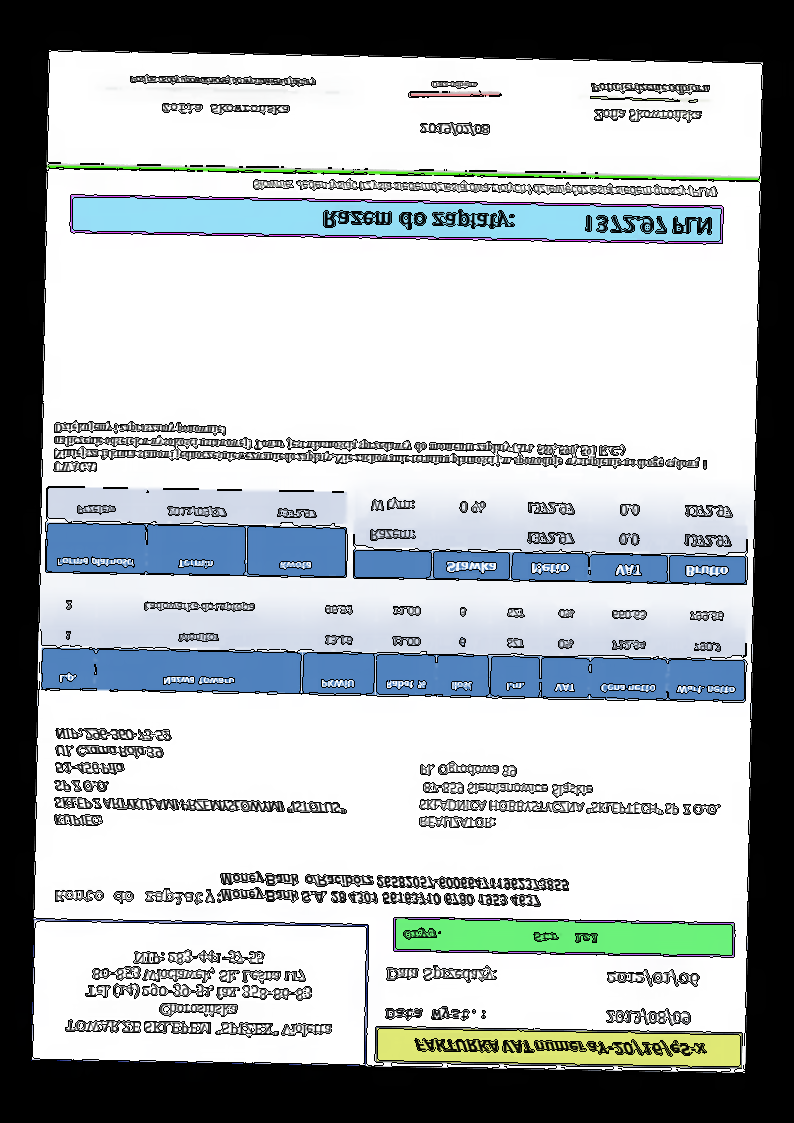Table: (39, 585, 749, 705), (352, 485, 750, 587), (44, 485, 350, 580)
TextBox: (49, 418, 713, 489), (50, 722, 351, 834), (58, 942, 338, 1042), (414, 758, 724, 838), (318, 203, 714, 243), (216, 870, 572, 910), (249, 176, 719, 202), (412, 1035, 713, 1063), (400, 926, 602, 951), (50, 884, 223, 908), (127, 74, 319, 90), (382, 964, 498, 987), (381, 1004, 489, 1027), (159, 101, 292, 119), (592, 106, 708, 126), (602, 968, 701, 991), (603, 1006, 694, 1031), (587, 81, 712, 96), (417, 120, 493, 140), (429, 76, 480, 94)
